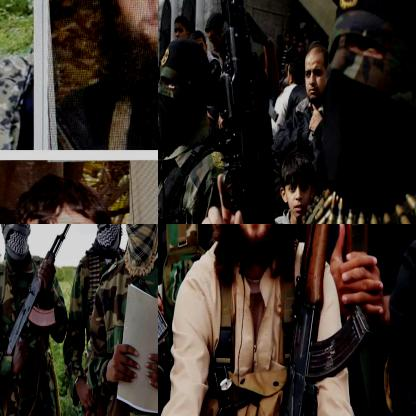rifle: (267, 224, 373, 415), (200, 0, 286, 223), (0, 224, 80, 410), (341, 224, 379, 286)
